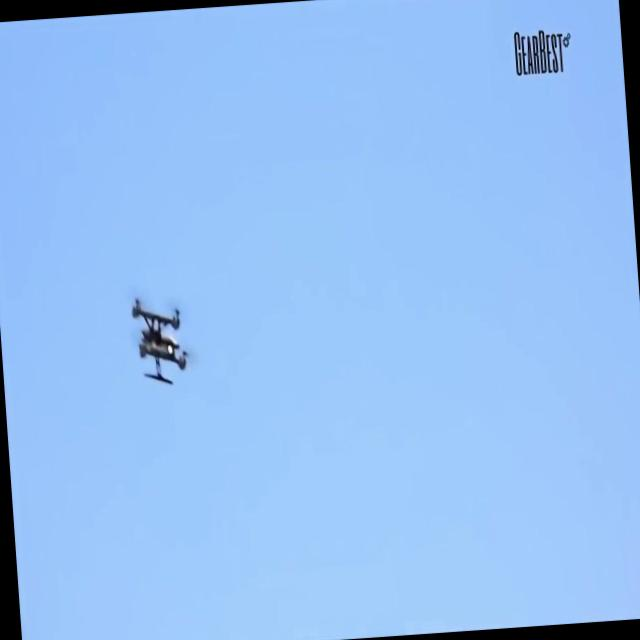drone: (128, 291, 194, 391)
